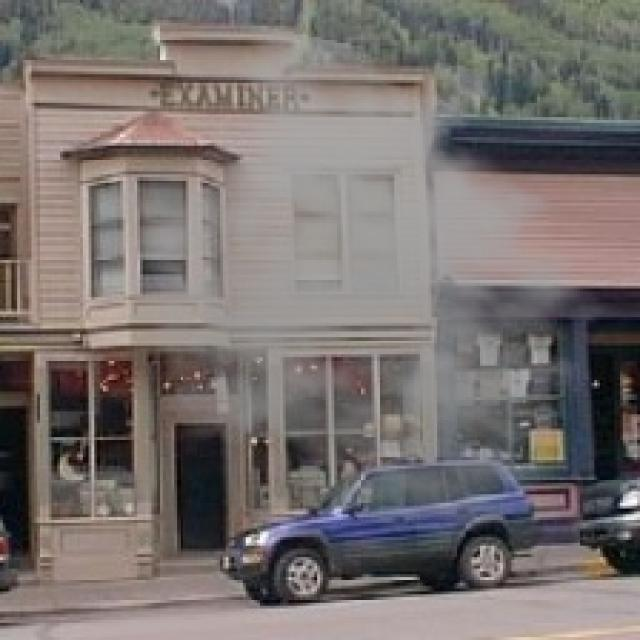Smoke: (108, 23, 634, 540)
